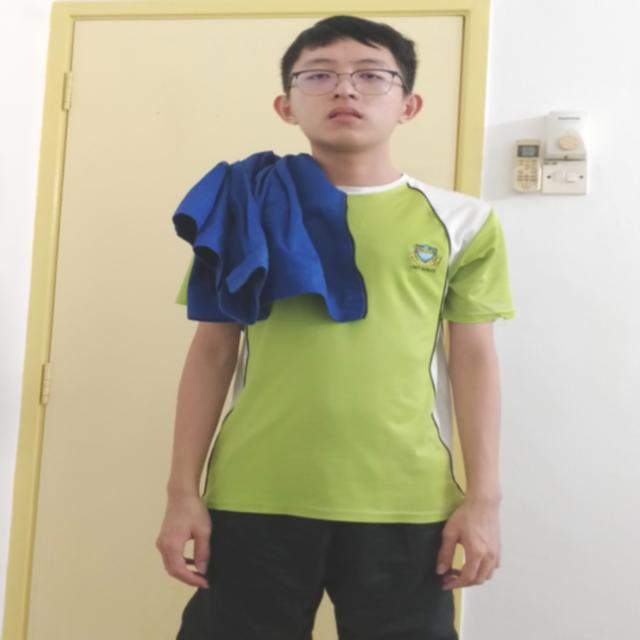person_without_labcoat: (157, 16, 513, 640)
